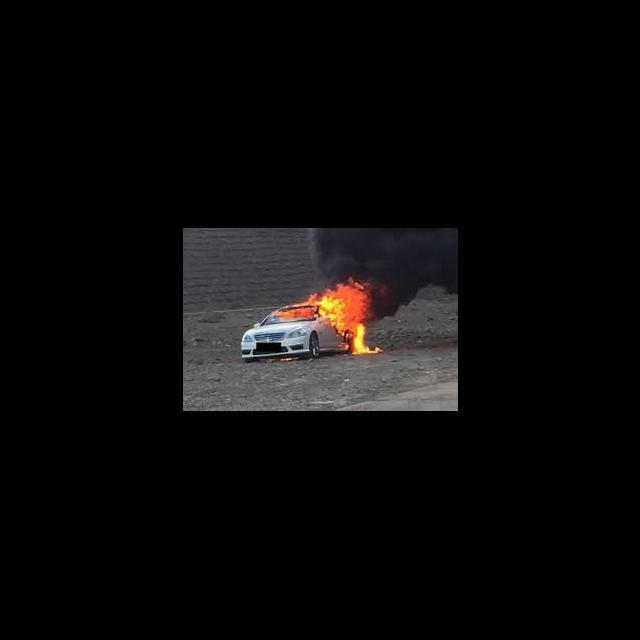Fire: (318, 279, 370, 355), (276, 292, 316, 320)
Smoke: (308, 228, 458, 278), (377, 280, 456, 320)
